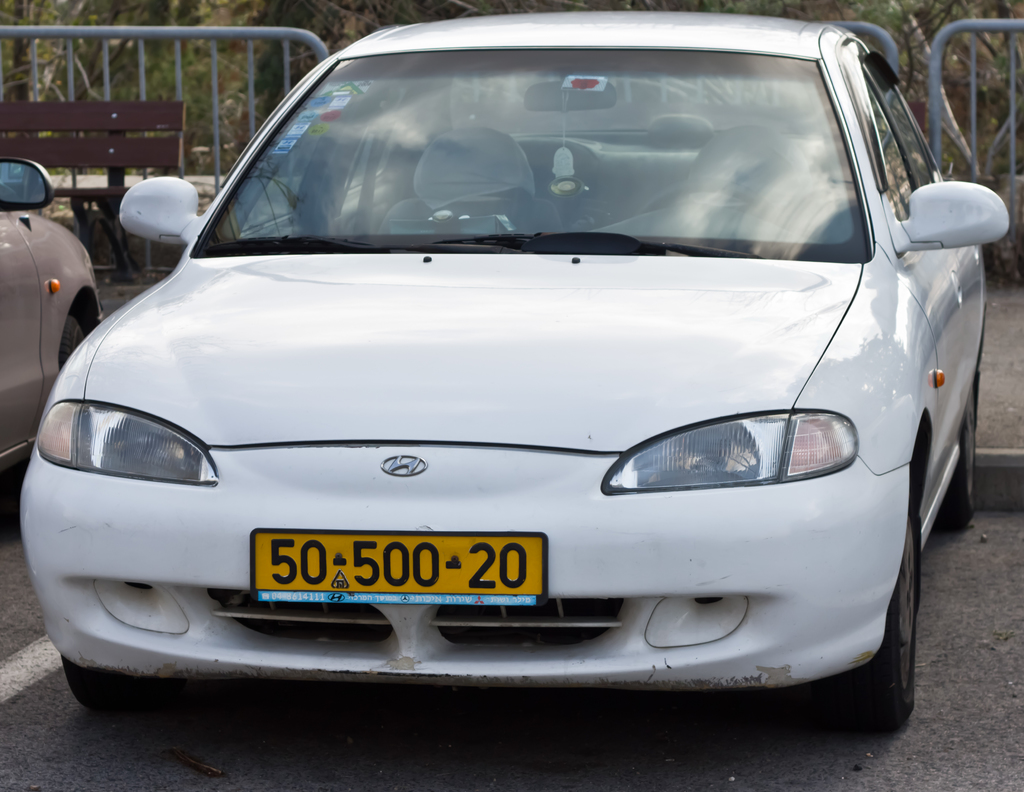license plate: (253, 529, 542, 600)
